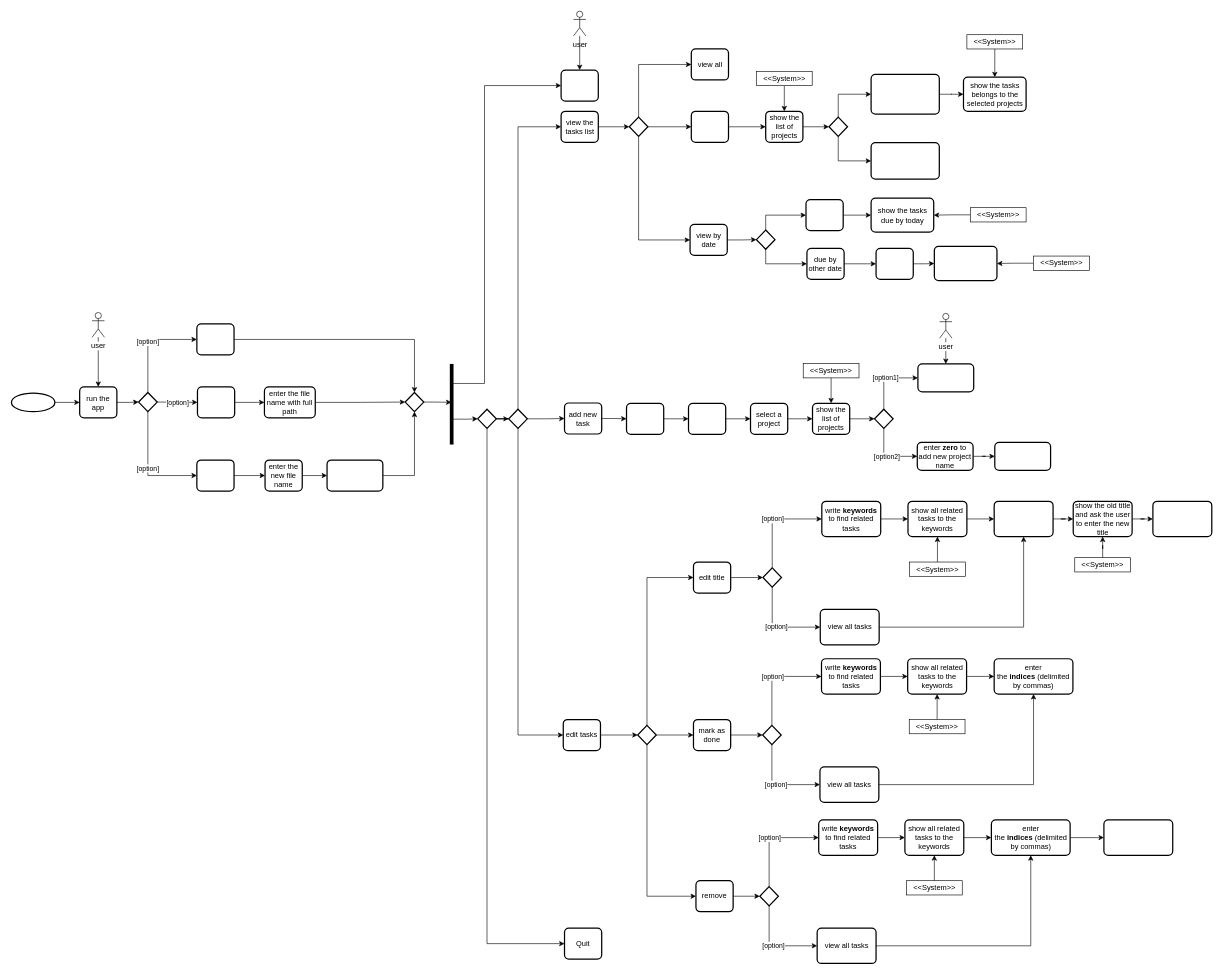
Some shapes in this 1223 by 975 pixel diagram are drawn without their labels. Here are the shapes that lost their labels. From the top down, the box of each, then its label:
(560, 69, 599, 101): see the number of tasks
(870, 73, 940, 114): enter the indices of the projects (delimited by commas)
(690, 110, 729, 143): view by project
(870, 142, 940, 179): press enter to show all categorised by projects
(805, 199, 844, 231): due by today
(875, 247, 914, 280): enter the date
(933, 246, 997, 281): show the tasks due by entered date
(196, 323, 234, 355): open Recent tasks file
(917, 363, 974, 392): enter the index of the project
(11, 392, 55, 412): start
(197, 386, 235, 418): open a tasks file
(626, 402, 664, 435): enter the title
(688, 402, 726, 435): enter the due date
(196, 459, 234, 491): new tasks file
(326, 459, 383, 491): enter the path of the folder to save the file in
(994, 441, 1051, 471): enter the title of the new project
(993, 500, 1053, 537): enter the index
(1152, 500, 1212, 537): enter the new title
(1103, 819, 1173, 856): confirm to remove
